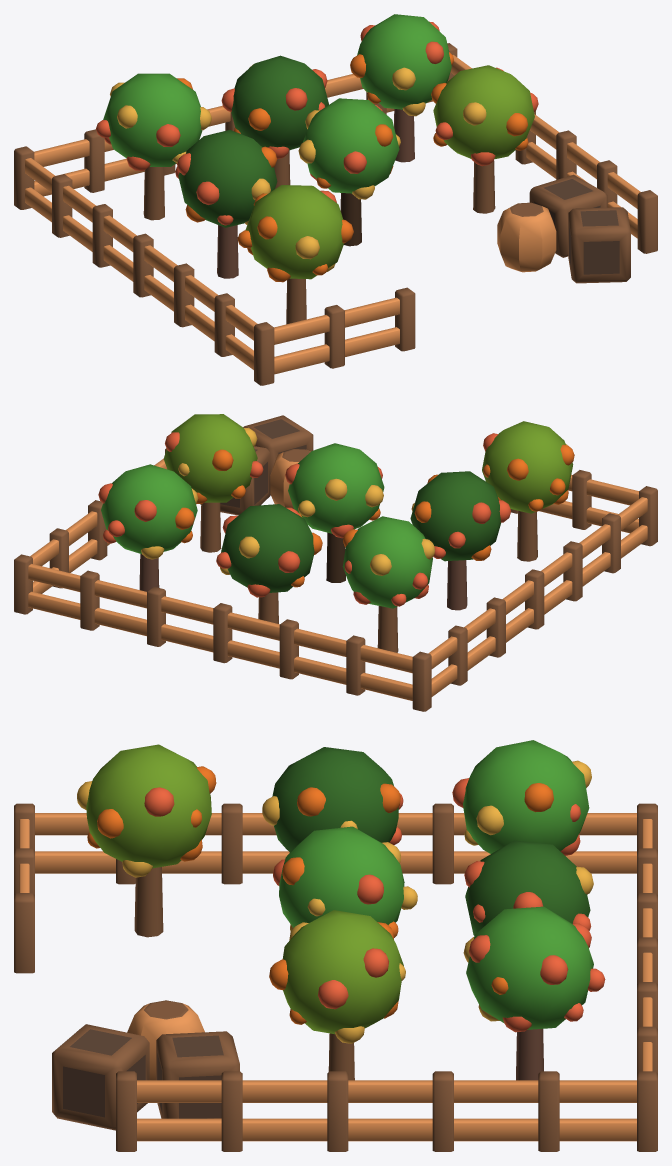
The model's file is Field-4.fbx.
3 views of the same model, one above another, from view 1: azimuth 30°, elevation 25°; view 2: azimuth 150°, elevation 25°; view 3: azimuth 270°, elevation 25° (orthographic). The views are drawn at different scales.
Visible parts, largest first — view 1: Cube.1274, Icosphere.320, Icosphere.244, Icosphere.283, Icosphere.295, Icosphere.270, Icosphere.307, Icosphere.257, Cube.1272, Cube.1544, Cube.1276, Cube.1275 (+12 smaller); view 2: Cube.1273, Cube.1271, Cube.1274, Icosphere.257, Icosphere.270, Icosphere.295, Icosphere.244, Icosphere.283, Icosphere.320, Icosphere.307, Cube.1272, Cube.1275 (+13 smaller); view 3: Cube.1278, Cube.1274, Icosphere.320, Icosphere.270, Icosphere.283, Icosphere.244, Cube.1277, Icosphere.295, Icosphere.307, Cube.1544, Icosphere.257, Cube.1271 (+18 smaller).
Part boxes in pixels (x1=…): Cube.1274: x1=25, y1=158, x2=257, y2=369; Icosphere.320: x1=245, y1=185, x2=343, y2=279; Icosphere.244: x1=103, y1=73, x2=202, y2=166; Icosphere.283: x1=433, y1=65, x2=534, y2=159; Icosphere.295: x1=303, y1=98, x2=399, y2=193; Icosphere.270: x1=357, y1=14, x2=451, y2=109; Icosphere.307: x1=178, y1=130, x2=277, y2=227; Icosphere.257: x1=231, y1=55, x2=328, y2=150; Cube.1272: x1=52, y1=174, x2=234, y2=356; Cube.1544: x1=568, y1=207, x2=630, y2=283; Cube.1276: x1=274, y1=297, x2=399, y2=374; Cube.1275: x1=254, y1=287, x2=415, y2=385; Cube.1273: x1=28, y1=564, x2=412, y2=700; Cube.1271: x1=14, y1=554, x2=431, y2=711; Cube.1274: x1=428, y1=497, x2=647, y2=696; Icosphere.257: x1=221, y1=504, x2=314, y2=592; Icosphere.270: x1=101, y1=464, x2=197, y2=553; Icosphere.295: x1=288, y1=443, x2=384, y2=533; Icosphere.244: x1=342, y1=516, x2=432, y2=608; Icosphere.283: x1=163, y1=414, x2=257, y2=502; Icosphere.320: x1=482, y1=421, x2=573, y2=513; Icosphere.307: x1=410, y1=471, x2=500, y2=561; Cube.1272: x1=448, y1=513, x2=620, y2=685; Cube.1275: x1=510, y1=470, x2=657, y2=546; Cube.1278: x1=137, y1=1080, x2=636, y2=1141; Cube.1274: x1=35, y1=813, x2=636, y2=873; Icosphere.320: x1=86, y1=744, x2=211, y2=868; Icosphere.270: x1=466, y1=906, x2=593, y2=1029; Icosphere.283: x1=282, y1=910, x2=403, y2=1034; Icosphere.244: x1=463, y1=740, x2=589, y2=853; Cube.1277: x1=116, y1=1071, x2=559, y2=1151; Icosphere.295: x1=279, y1=826, x2=404, y2=927; Icosphere.307: x1=272, y1=747, x2=398, y2=852; Cube.1544: x1=52, y1=1024, x2=149, y2=1130; Icosphere.257: x1=465, y1=840, x2=590, y2=935; Cube.1271: x1=637, y1=803, x2=657, y2=1151.
Bounding box in the file's own units: 180 × 57.11 × 177.
